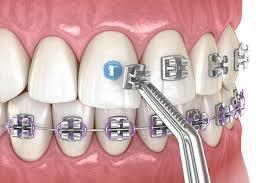Braces: (8, 90, 249, 133), (160, 42, 254, 81)
